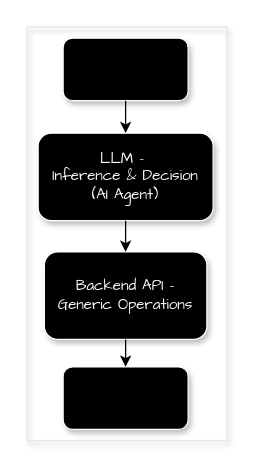
The diagram is 256 pixels wide and 471 high, and some of its shapes have lost their labels. The centre of each missing label's shape, as x and y in pixels:
Database: point (126, 399)
User: point (126, 70)
